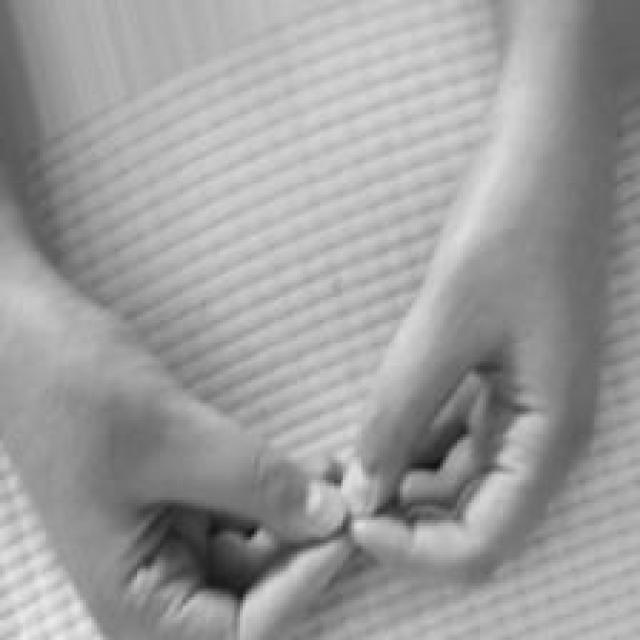B: (0, 277, 606, 640)
